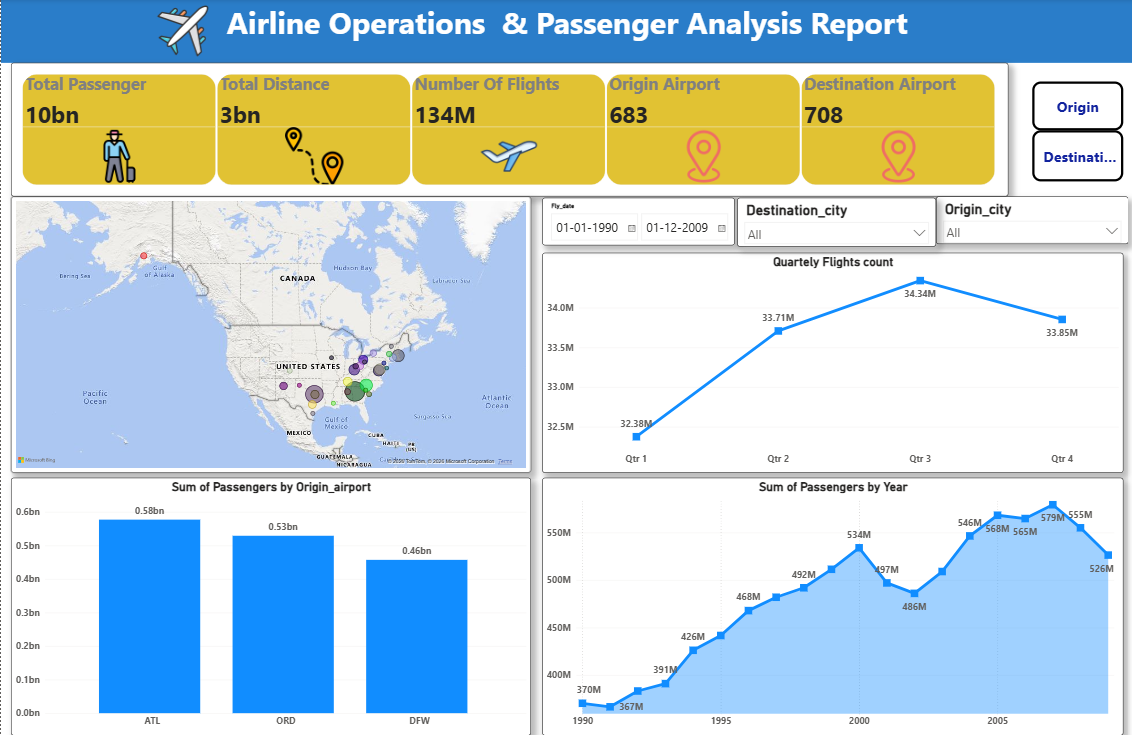

The page's visual inventory and layout, read from the dashboard file:
{"tool":"powerbi","page":{"name":"Page 1","canvas":[2000,1300],"ordinal":0},"visuals":[{"type":"textbox","box":[0,0,2000.4,112.6],"z":0},{"type":"image","box":[194.3,0,253.9,112.6],"z":1000},{"type":"cardVisual","fields":{"Data":["Sum(Airports2 dataset.Passengers)","Sum(Airports2 dataset.Distance)","Sum(Airports2 dataset.Flights)","Count(Airports2 dataset.Origin_airport)","Count(Airports2 dataset.Destination_airport)"]},"box":[17.7,112.6,1761.9,236.2],"z":2000},{"type":"map","fields":{"Series":["Airports2 dataset.Origin_airport"],"Size":["Sum(Airports2 dataset.Passengers)"],"X":["Airports2 dataset.Org_airport_long"],"Y":["Airports2 dataset.Org_airport_lat"]},"box":[17.7,348.8,918.5,487.9],"z":3000},{"type":"columnChart","fields":{"Category":["Airports2 dataset.Origin_airport"],"Y":["Sum(Airports2 dataset.Passengers)"]},"box":[17.7,845.6,918.5,454.8],"z":5000},{"type":"lineChart","title":"Quartely Flights count","fields":{"Category":["Airports2 dataset.Fly_date.Variation.Date Hierarchy.Quarter"],"Y":["Sum(Airports2 dataset.Flights)"]},"box":[956,448.2,1026.7,388.6],"z":7000},{"type":"areaChart","title":"Sum of Passengers by Year","fields":{"Category":["Airports2 dataset.Fly_date.Variation.Date Hierarchy.Year","Airports2 dataset.Fly_date.Variation.Date Hierarchy.Quarter","Airports2 dataset.Fly_date.Variation.Date Hierarchy.Month","Airports2 dataset.Fly_date.Variation.Date Hierarchy.Day"],"Y":["Sum(Airports2 dataset.Passengers)"]},"box":[956,845.6,1026.7,454.8],"z":8000},{"type":"slicer","fields":{"Values":["Airports2 dataset.Fly_date"]},"box":[956,351.1,340,83.9],"z":9000},{"type":"slicer","fields":{"Values":["Airports2 dataset.Origin_city"]},"box":[1651.5,348.8,340,83.9],"z":10000},{"type":"slicer","fields":{"Values":["Airports2 dataset.Destination_city"]},"box":[1300.4,351.1,351.1,86.1],"z":11000},{"type":"actionButton","box":[1821.5,145.7,161.2,86.1],"z":12000},{"type":"actionButton","box":[1821.5,231.8,161.2,90.5],"z":13000}]}

Visuals, with their boxes in screenshot pixels (x1, y1, x2, y2), scaled from the page's 2000x1300 canvas onto the 1132x735 screenshot:
textbox: bbox=(0, 0, 1131, 64)
image: bbox=(110, 0, 254, 64)
cardVisual - Sum(Airports2 dataset.Passengers) x Sum(Airports2 dataset.Distance): bbox=(10, 64, 1007, 197)
map - Airports2 dataset.Origin_airport x Sum(Airports2 dataset.Passengers): bbox=(10, 197, 530, 473)
columnChart - Airports2 dataset.Origin_airport x Sum(Airports2 dataset.Passengers): bbox=(10, 478, 530, 734)
"Quartely Flights count" lineChart: bbox=(541, 253, 1122, 473)
"Sum of Passengers by Year" areaChart: bbox=(541, 478, 1122, 734)
slicer - Airports2 dataset.Fly_date: bbox=(541, 199, 734, 246)
slicer - Airports2 dataset.Origin_city: bbox=(935, 197, 1127, 245)
slicer - Airports2 dataset.Destination_city: bbox=(736, 199, 935, 247)
actionButton: bbox=(1031, 82, 1122, 131)
actionButton: bbox=(1031, 131, 1122, 182)
